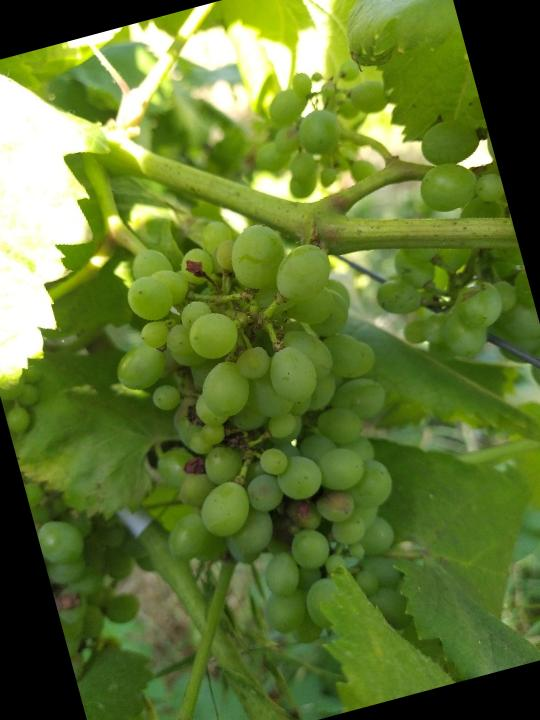grape: (84, 187, 453, 686)
